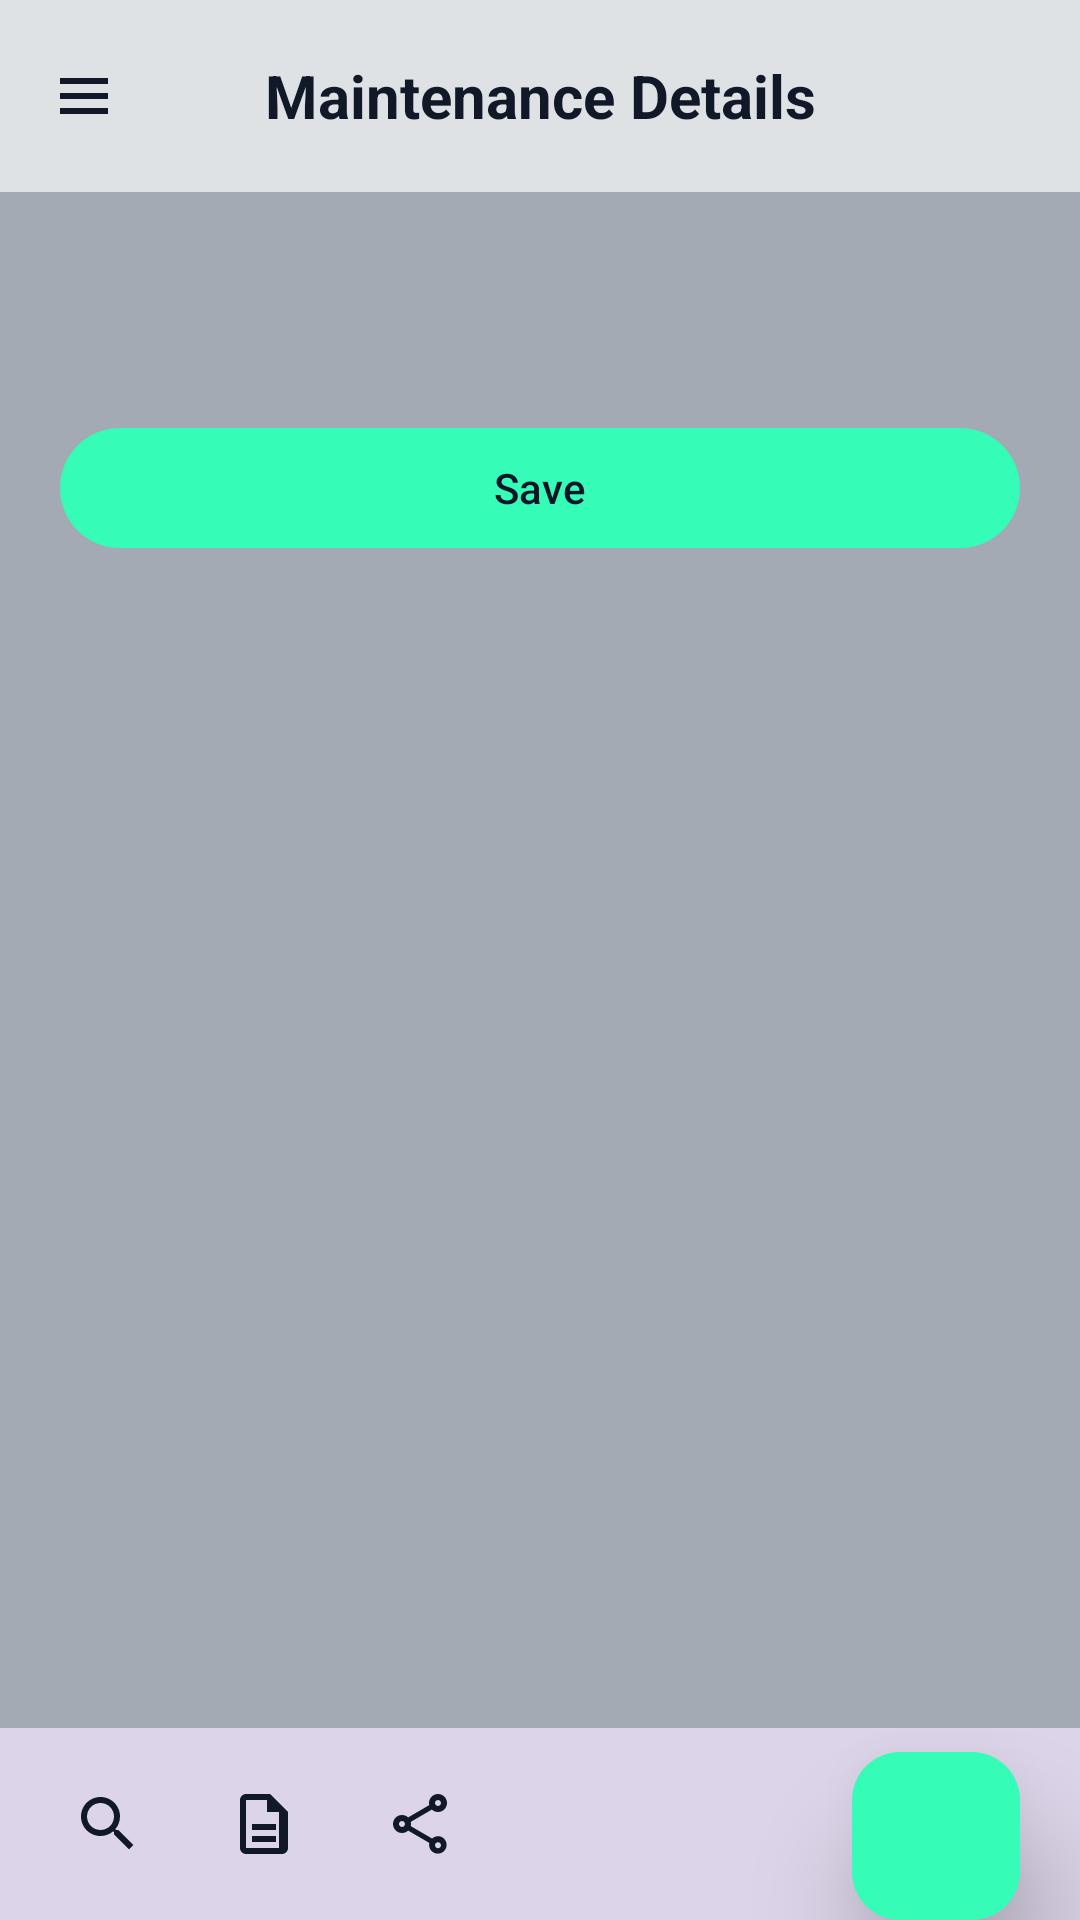

Named icons in this screenshot (1080x1920) and their bounding boxes, BBox(x1, y1, x2, y2):
Document: BBox(240, 1794, 288, 1854)
Search: BBox(81, 1797, 133, 1849)
